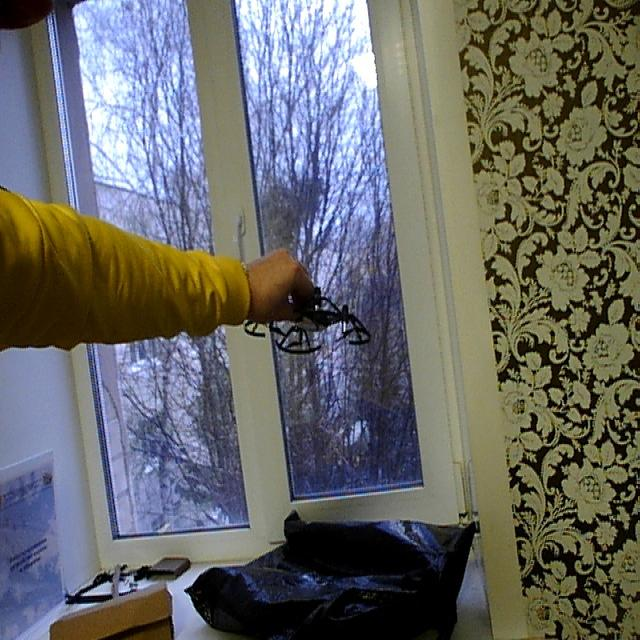drone: (235, 274, 378, 365)
